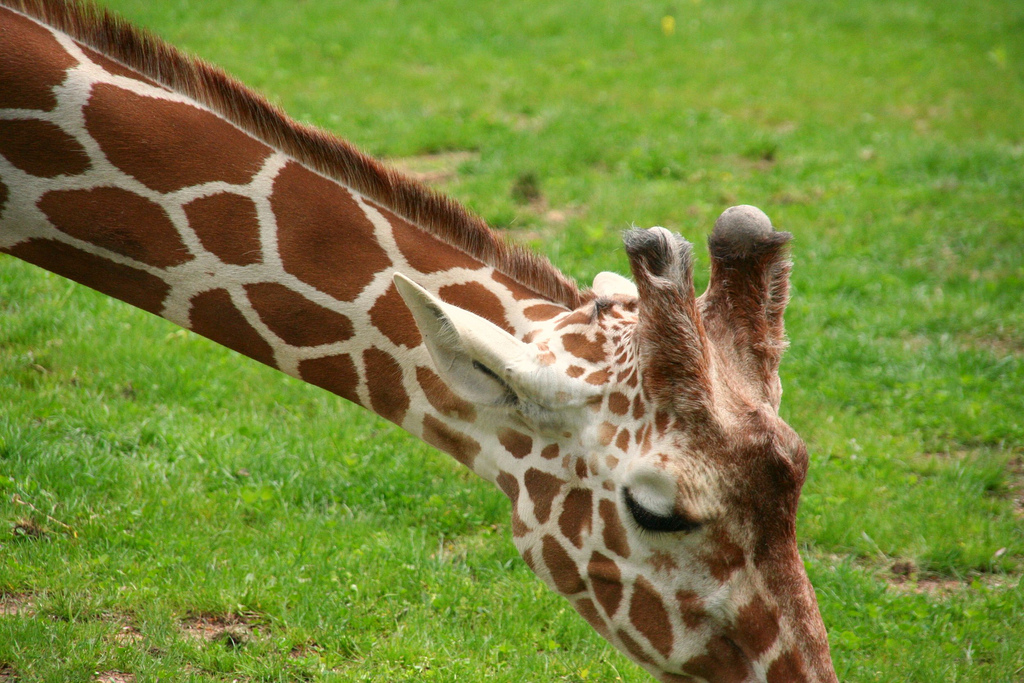giraffe: (53, 18, 872, 639)
